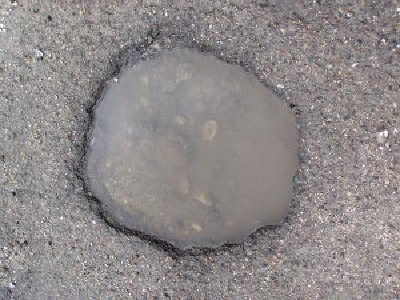pothole: (73, 28, 307, 261)
